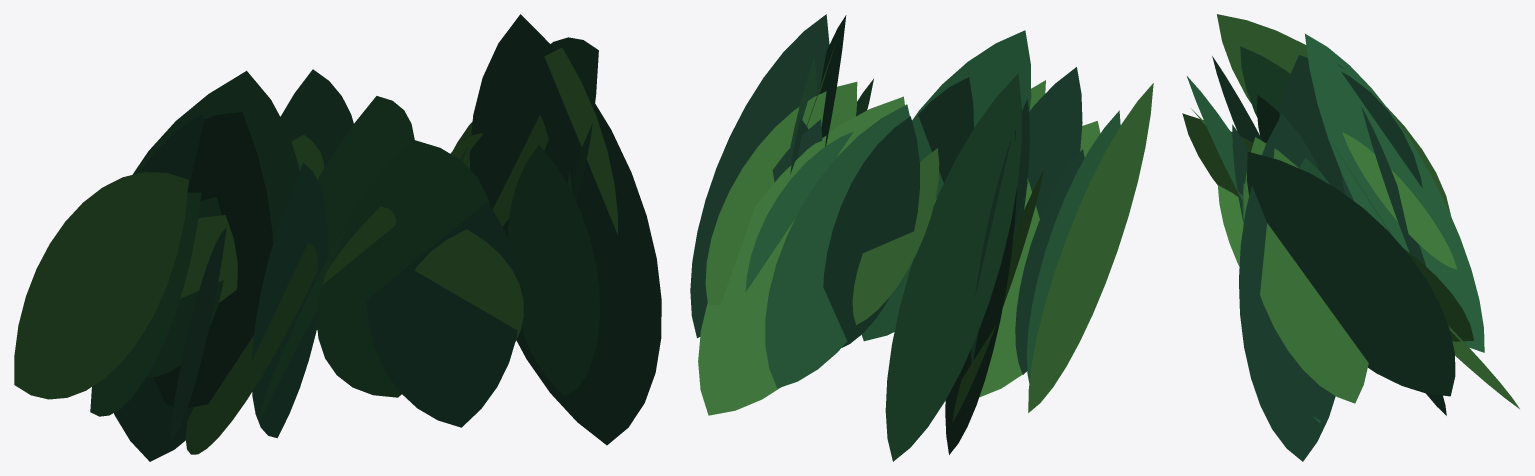
The model's file is canopy-cluster.glb.
3 views of the same model, side by side, from view 1: azimuth 30°, elevation 25°; view 2: azimuth 150°, elevation 25°; view 3: azimuth 270°, elevation 25° (orthographic). The views are drawn at different scales.
Parts seen in each view (by area): view 1: layered-canopy; view 2: layered-canopy; view 3: layered-canopy.
Boxes of the visible parts, left/top/right/bottom form: layered-canopy: left=14, top=14, right=661, bottom=461; layered-canopy: left=690, top=14, right=1153, bottom=461; layered-canopy: left=1182, top=14, right=1519, bottom=461.
Bounding box in the file's own units: 4.17 × 3.74 × 3.63.
